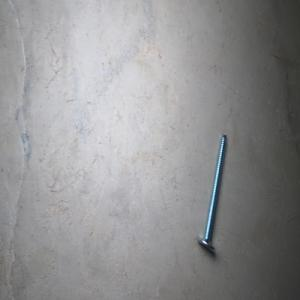Bolt: (196, 133, 227, 251)
